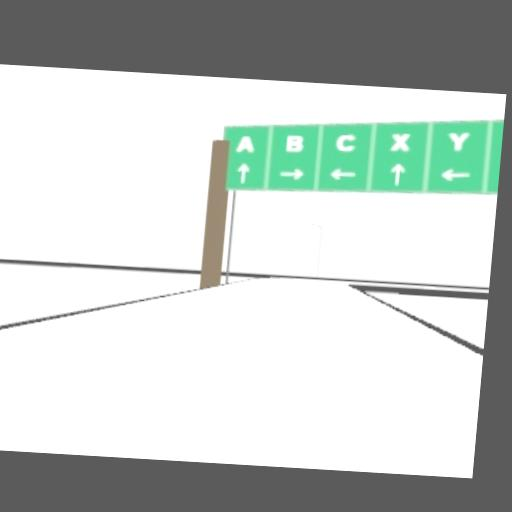A: (235, 134, 254, 152)
B: (285, 134, 303, 152)
C: (335, 133, 356, 153)
Left: (439, 168, 470, 182), (327, 166, 356, 180)
Right: (279, 167, 305, 181)
Straight: (388, 162, 405, 185), (236, 162, 250, 183)
X: (390, 131, 411, 151)
Y: (447, 132, 469, 152)
